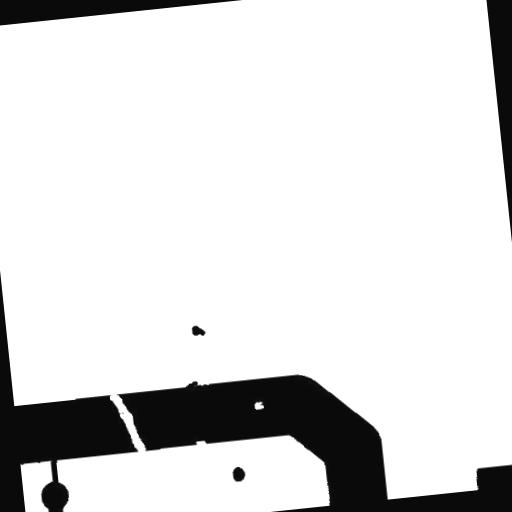copper: (183, 316, 214, 344)
mousebite: (187, 432, 214, 454)
open: (101, 382, 154, 463)
pin-hole: (246, 393, 272, 418)
short: (42, 450, 68, 492)
spur: (177, 372, 206, 398)
